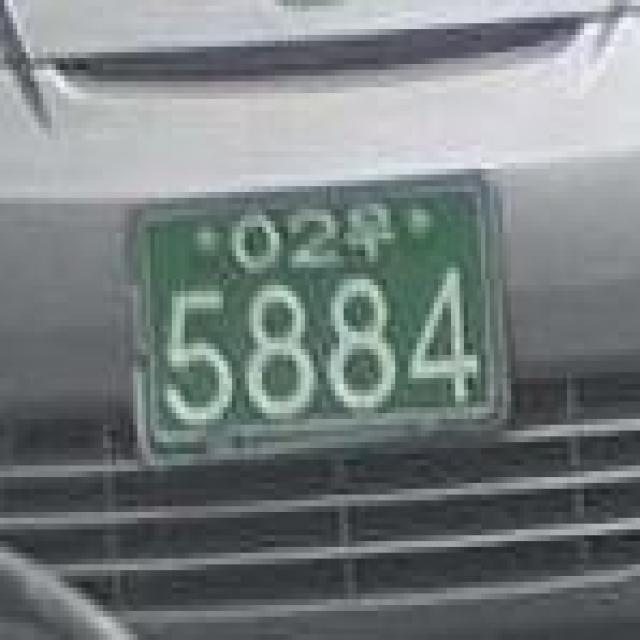illegal_plate: (118, 160, 520, 467)
